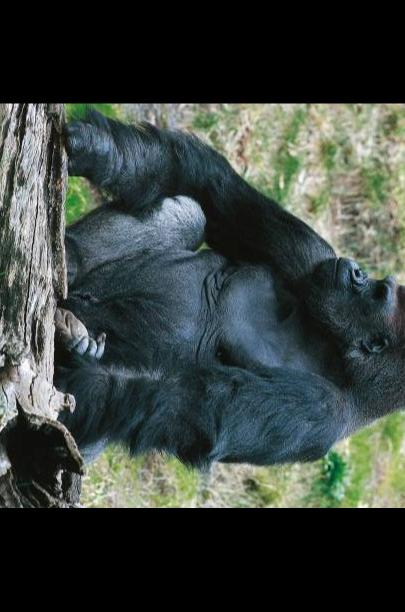gorille_Autres: (33, 123, 405, 481)
